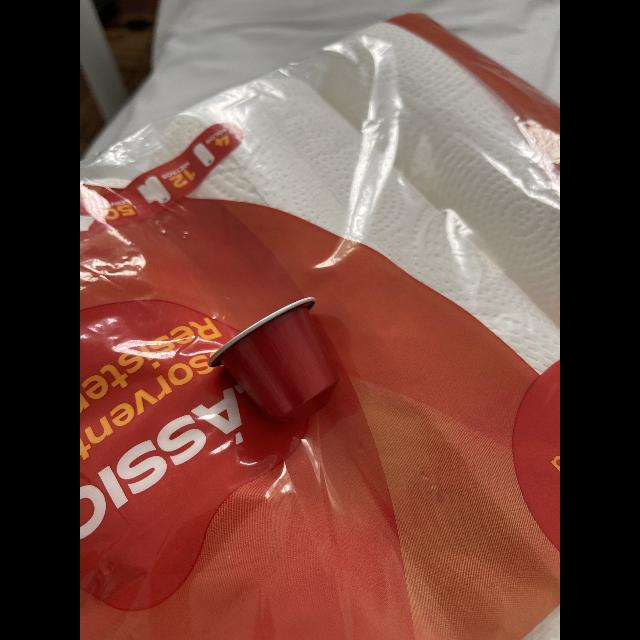intact_capsule: (204, 284, 358, 438)
